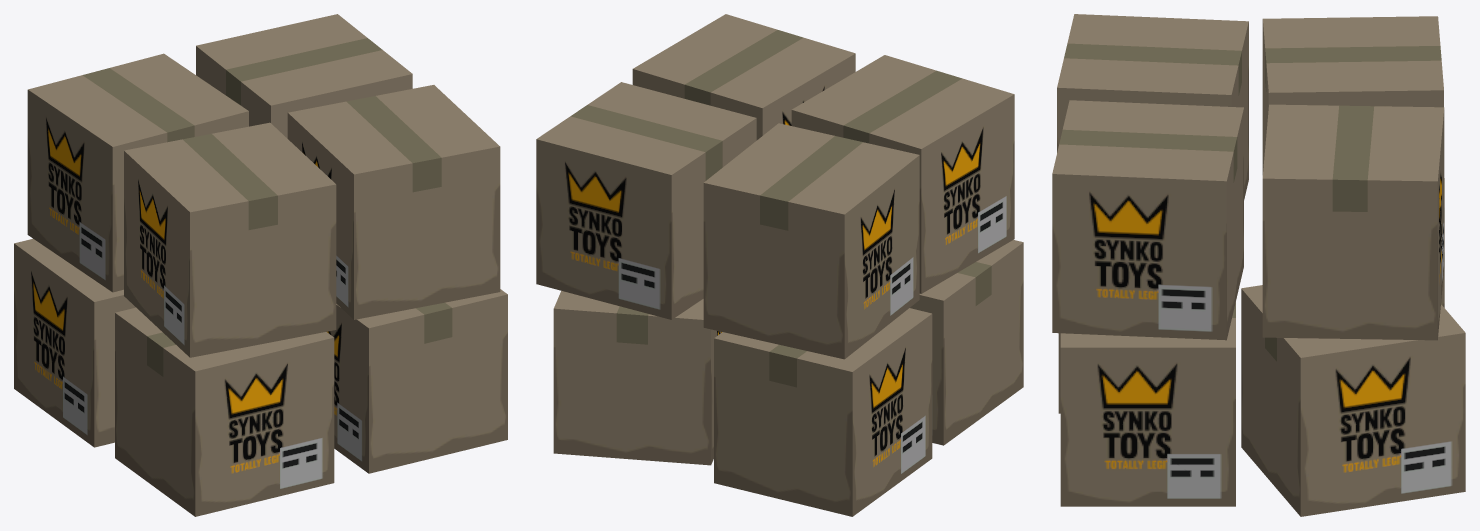
The model's file is SM_Prop_CardboardBox_Stack_02.obj.
3 renders of one model, left to right at view 1: azimuth 30°, elevation 25°; view 2: azimuth 150°, elevation 25°; view 3: azimuth 270°, elevation 25°, orthographic. The views are drawn at different scales.
Parts seen in each view (by area): view 1: SM_Prop_CardboardBox_Stack_02_0; view 2: SM_Prop_CardboardBox_Stack_02_0; view 3: SM_Prop_CardboardBox_Stack_02_0.
Part boxes in pixels (left/top/right/bottom): SM_Prop_CardboardBox_Stack_02_0: left=14, top=14, right=507, bottom=516; SM_Prop_CardboardBox_Stack_02_0: left=536, top=14, right=1023, bottom=516; SM_Prop_CardboardBox_Stack_02_0: left=1052, top=14, right=1465, bottom=516.
Bounding box in the file's own units: 1.39 × 1.18 × 1.35.
Materials: 1 (1 with a texture image).
